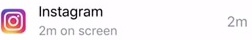name: (36, 2, 109, 20)
time: (37, 24, 59, 40)
